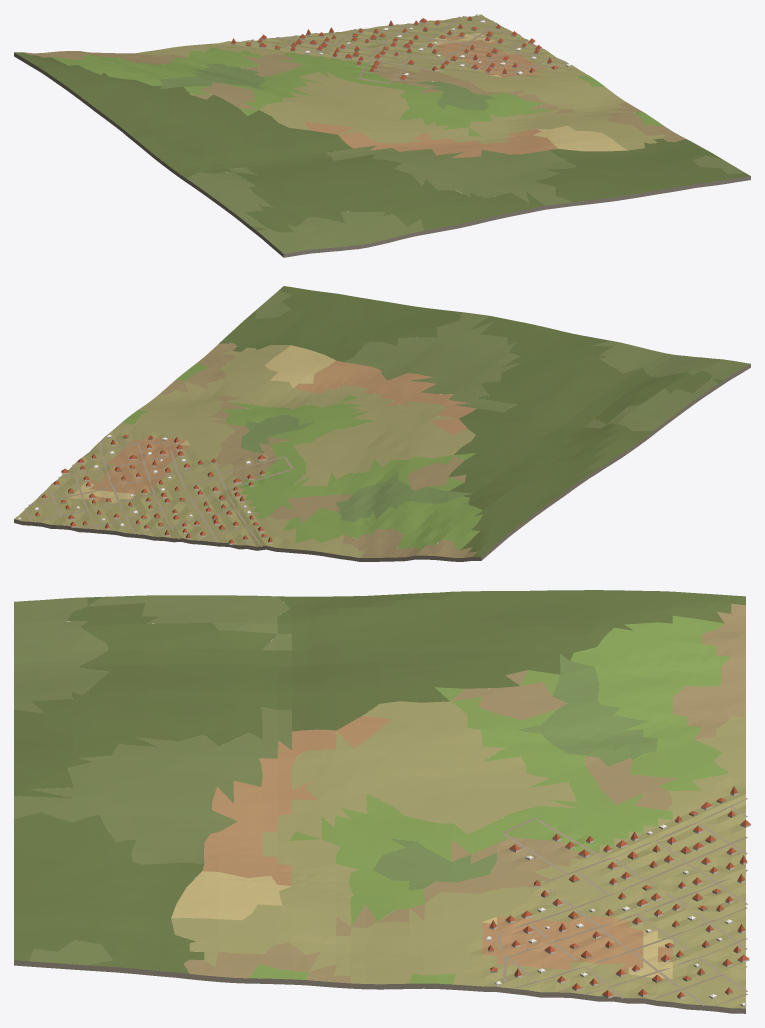
Rendered from parca_+9_-1-uzak.glb.
3 renders of one model, top to bottom at view 1: azimuth 30°, elevation 25°; view 2: azimuth 150°, elevation 25°; view 3: azimuth 270°, elevation 25°, orthographic. The views are drawn at different scales.
Visible parts, largest first — view 1: parca_+9_-1_arazi_uzak, parca_+9_-1_yapilar_uzak, parca_+9_-1_yollar_uzak; view 2: parca_+9_-1_arazi_uzak, parca_+9_-1_yapilar_uzak, parca_+9_-1_yollar_uzak; view 3: parca_+9_-1_arazi_uzak, parca_+9_-1_yapilar_uzak, parca_+9_-1_yollar_uzak.
Part boxes in pixels (x1,y1,x2,y2): parca_+9_-1_arazi_uzak: [14, 14, 750, 257]; parca_+9_-1_yapilar_uzak: [231, 14, 571, 80]; parca_+9_-1_yollar_uzak: [235, 16, 567, 83]; parca_+9_-1_arazi_uzak: [14, 286, 750, 561]; parca_+9_-1_yapilar_uzak: [17, 434, 272, 544]; parca_+9_-1_yollar_uzak: [24, 439, 293, 546]; parca_+9_-1_arazi_uzak: [14, 590, 745, 1013]; parca_+9_-1_yapilar_uzak: [485, 786, 750, 1006]; parca_+9_-1_yollar_uzak: [497, 798, 747, 1006].
Size of the model in its own units: 1007 by 173 by 1007.
